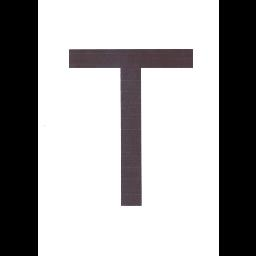t: (62, 38, 200, 222)
